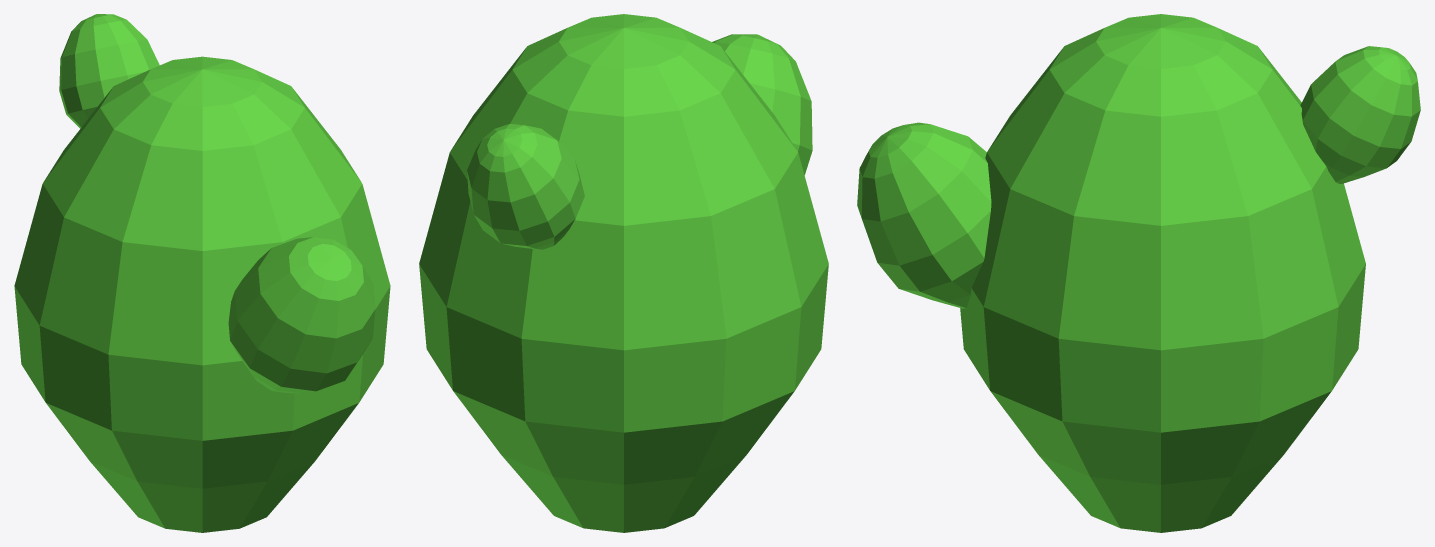
File: cactus_2.fbx
3 renders of one model, left to right at view 1: azimuth 30°, elevation 25°; view 2: azimuth 150°, elevation 25°; view 3: azimuth 270°, elevation 25°, orthographic. The views are drawn at different scales.
Visible parts, largest first — view 1: Cylinder; view 2: Cylinder; view 3: Cylinder.
Boxes of the visible parts, left/top/right/bottom form: Cylinder: left=14, top=14, right=390, bottom=532; Cylinder: left=419, top=14, right=828, bottom=532; Cylinder: left=857, top=14, right=1420, bottom=532.
Size of the model in its own units: 118 by 149 by 162.
